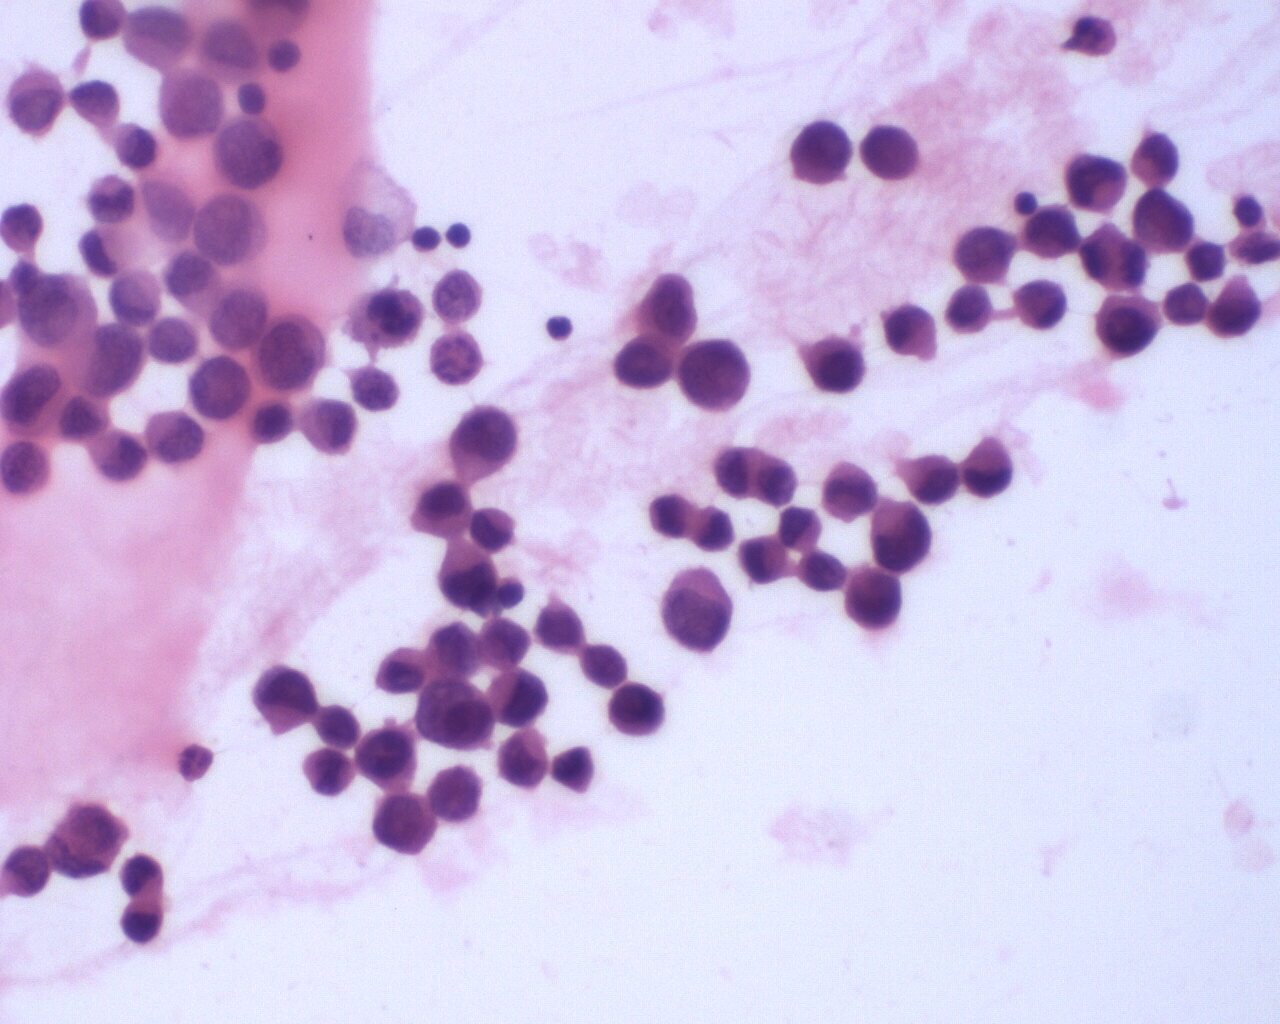ab: (415, 678, 508, 754), (656, 565, 736, 652), (250, 310, 327, 394), (444, 405, 526, 482), (676, 333, 753, 412), (194, 187, 270, 267), (785, 112, 854, 189), (1093, 288, 1165, 358), (856, 117, 929, 186), (868, 499, 934, 574), (1130, 186, 1197, 256), (370, 789, 439, 857), (250, 665, 318, 734), (840, 563, 906, 633), (951, 224, 1021, 289), (353, 721, 421, 788), (799, 328, 862, 400), (3, 66, 65, 138), (1065, 152, 1131, 218), (818, 460, 882, 523), (1017, 205, 1083, 265), (613, 332, 675, 396), (299, 394, 359, 458), (1204, 276, 1262, 342), (146, 406, 208, 468), (605, 679, 667, 738), (243, 397, 302, 453), (940, 283, 1000, 339), (474, 614, 532, 669)
lymph: (444, 217, 472, 251)
